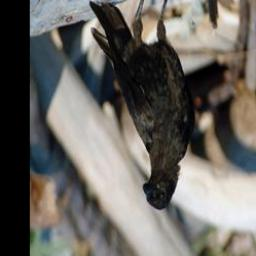Crow: (88, 0, 197, 213)
